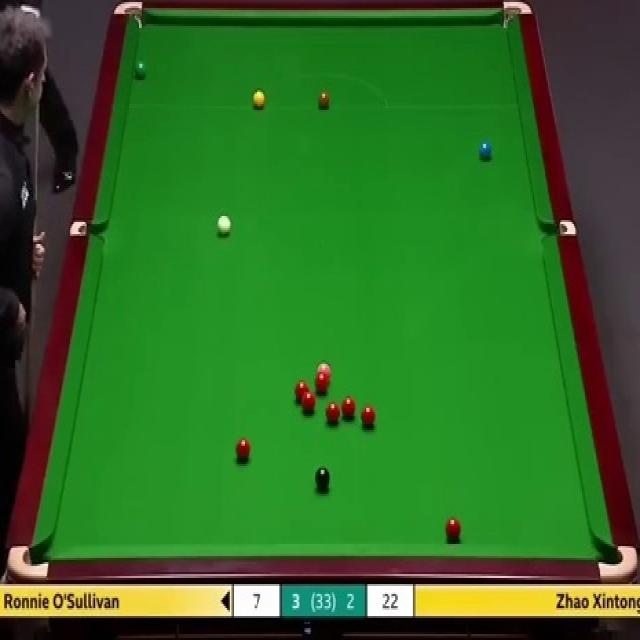pocket: (5, 543, 52, 582), (595, 543, 637, 582), (500, 0, 532, 32), (112, 0, 146, 29), (540, 218, 577, 237), (67, 220, 101, 235)
